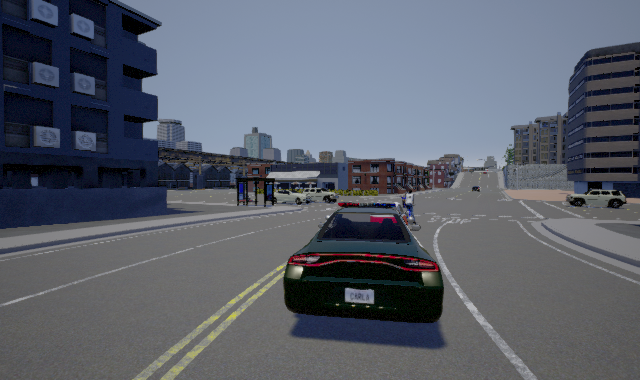bike: (399, 189, 424, 234)
vehicle: (283, 201, 444, 323), (566, 188, 627, 208), (274, 188, 339, 205), (469, 183, 483, 196)
